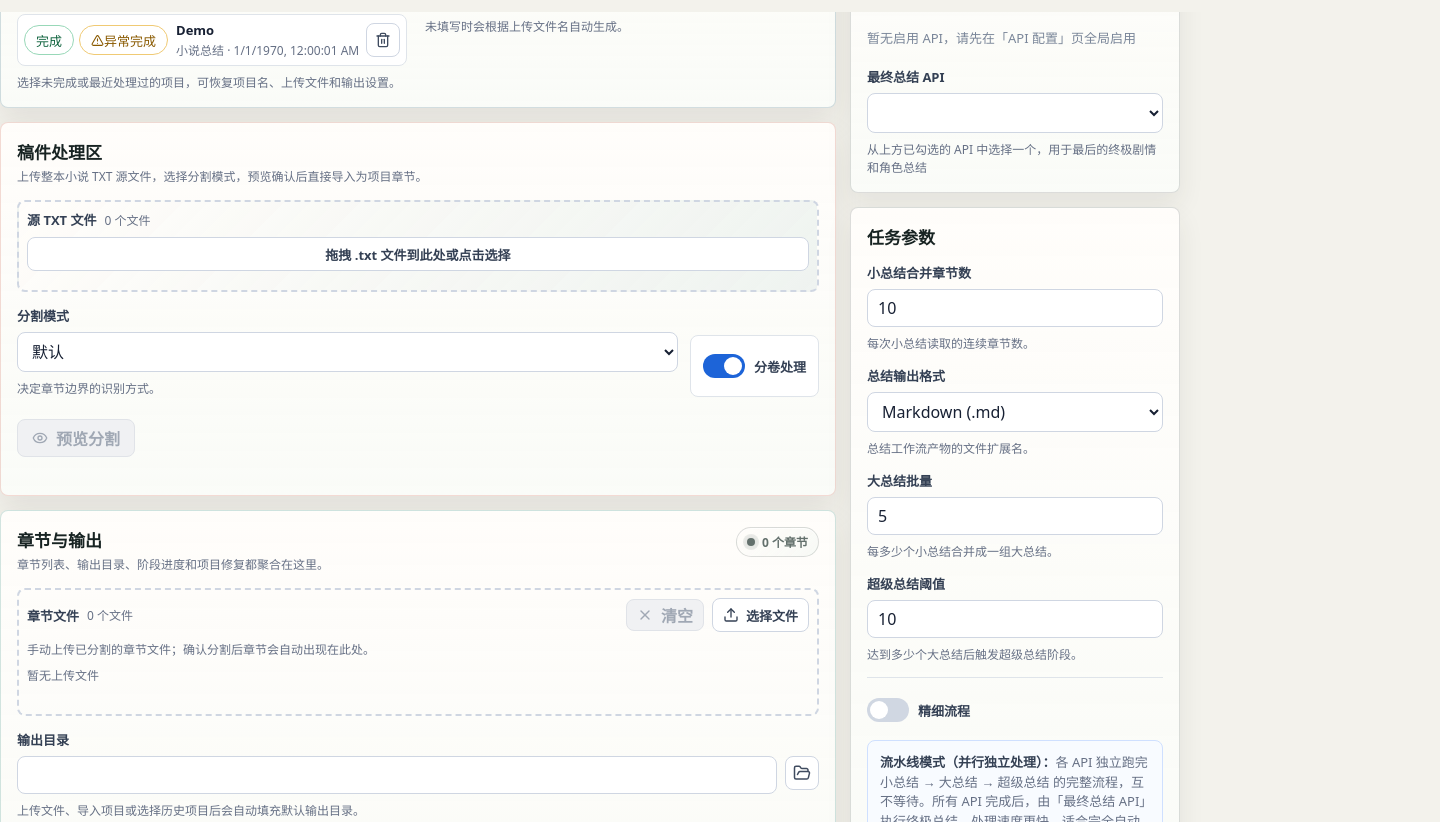
Test: NovelSummaryPage › shows abnormal project warnings and repair actions after restoring history
(page scrolled)
Click the text "Demo". click: (195,30)
box: [176,20,214,38]
(page scrolled)
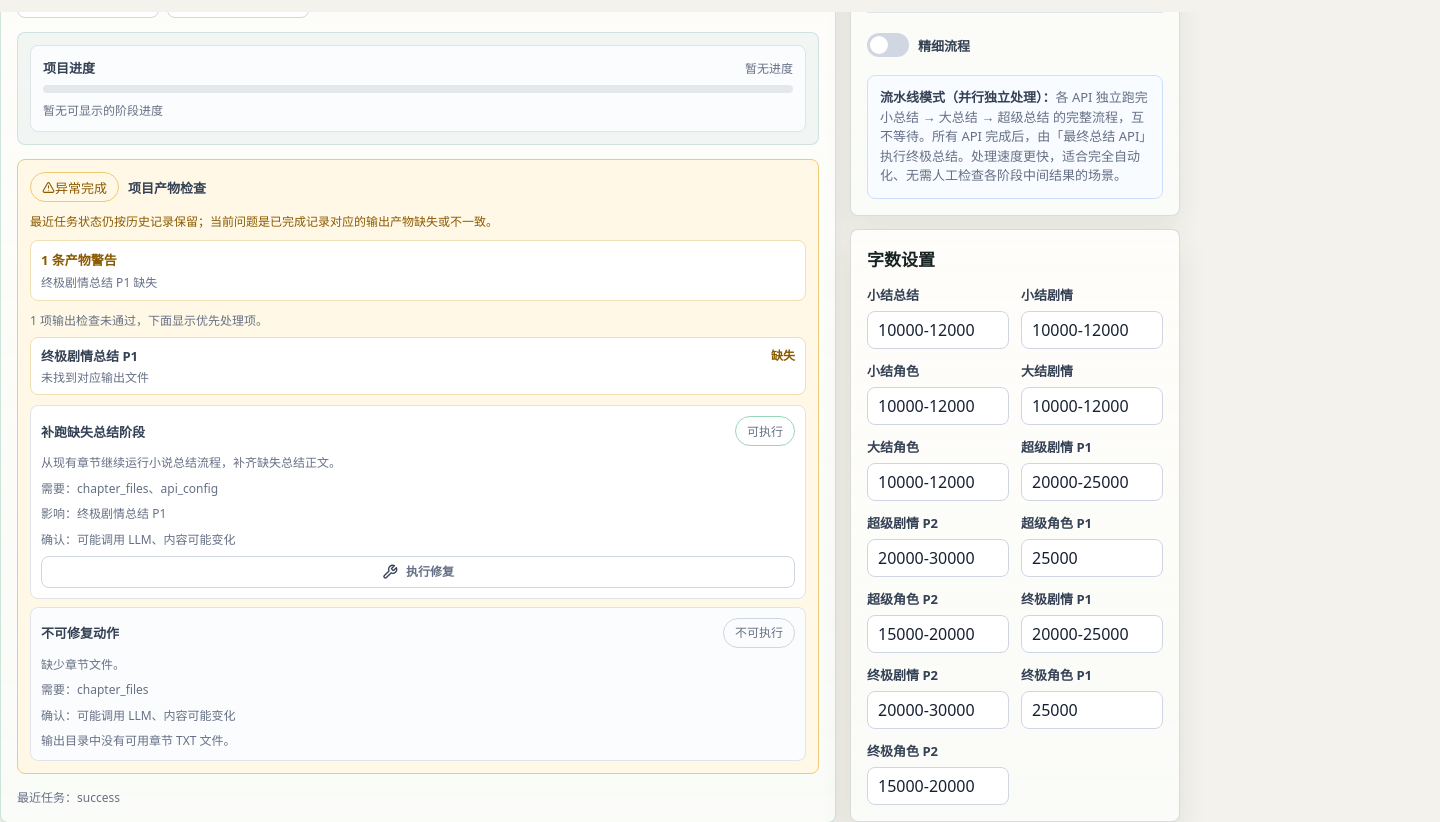
Result: the element named "项目修复建议" is shown at [17,158,819,773]
Result: the text "最近任务状态仍按历史记录保留；当前问题是已完成记录对应的输出产物缺失或不一致。" is shown at [30,212,498,230]
Result: the text "终极剧情总结 P1 缺失" is shown at [41,274,157,290]
